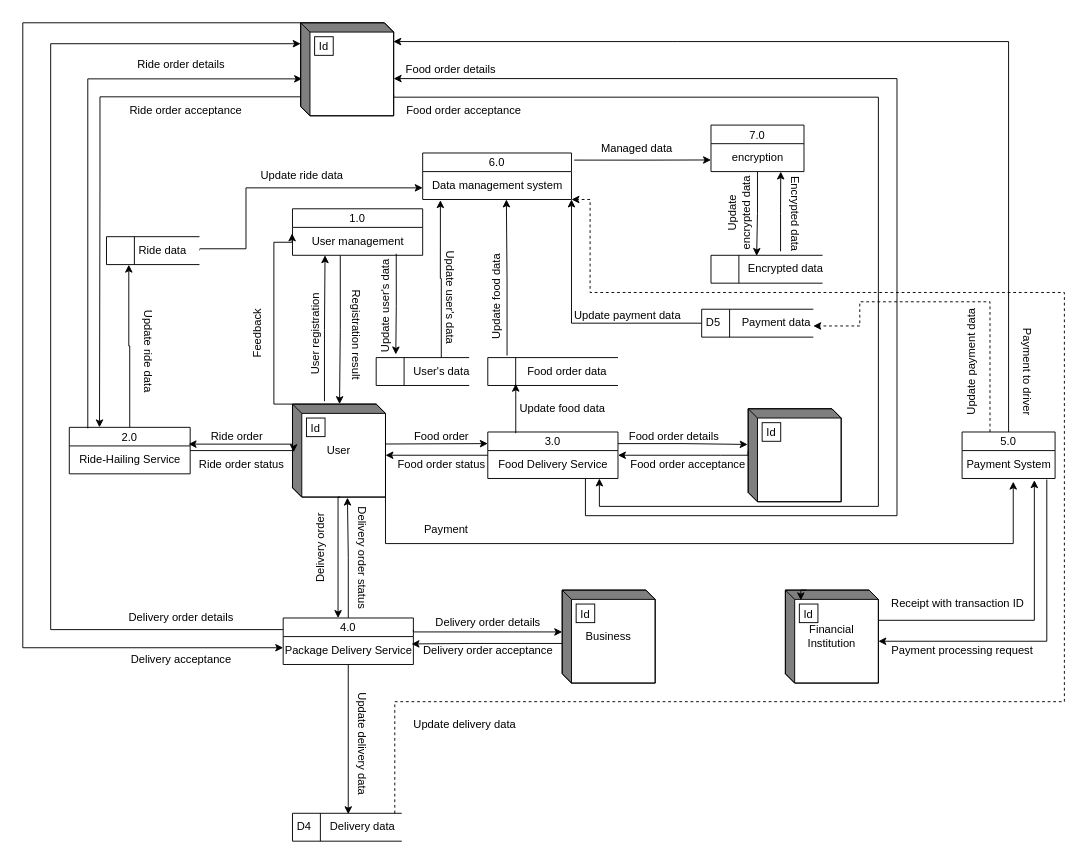
Image size: 1088x857. Some labels were removed from this diagram. The shapes that lost their labels are listed below. From the top down, each one's box as (x1, y1, x2, y2) in pixels, then its label:
(300, 22, 394, 116): Driver
(106, 236, 199, 265): D2
(710, 254, 823, 283): D6
(375, 357, 469, 385): D1
(487, 357, 618, 385): D3
(747, 408, 841, 502): Restaurant
